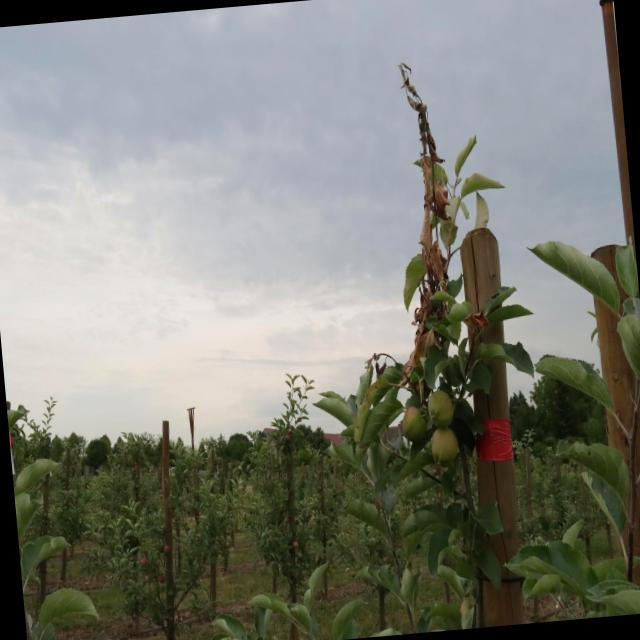-FireBlight-: (394, 54, 464, 354)
